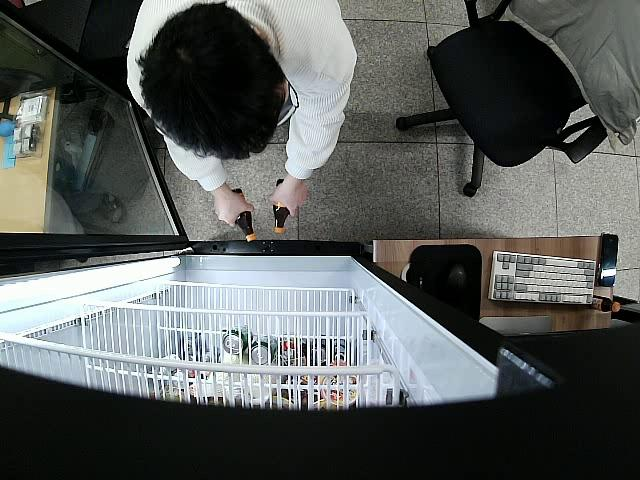00_hand: (215, 188, 254, 226), (269, 181, 307, 216)
17_vita500: (226, 187, 254, 241), (271, 178, 296, 234)
